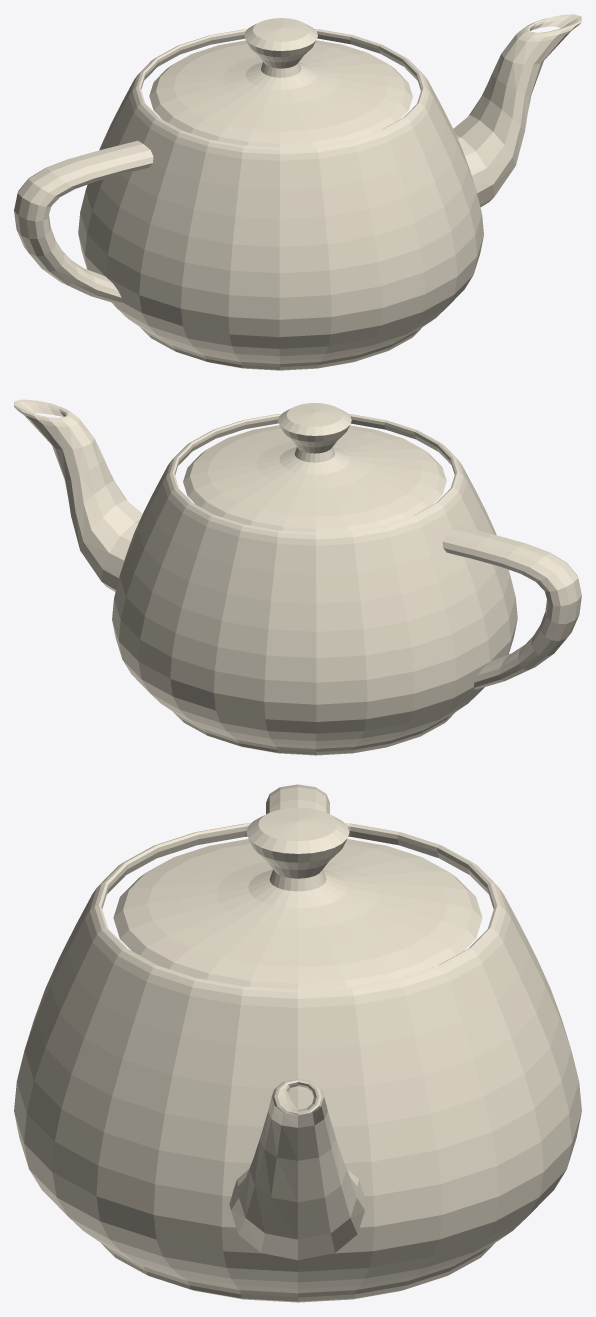
The model's file is case6.glb.
The picture shows the model from 3 angles, top to bottom: view 1: azimuth 30°, elevation 25°; view 2: azimuth 150°, elevation 25°; view 3: azimuth 270°, elevation 25°; orthographic projection. The views are drawn at different scales.
Parts seen in each view (by area): view 1: teapot; view 2: teapot; view 3: teapot.
Boxes of the visible parts, left/top/right/bottom form: teapot: left=14, top=14, right=581, bottom=370; teapot: left=14, top=399, right=581, bottom=755; teapot: left=14, top=784, right=581, bottom=1302.
Bounding box in the file's own units: 0.00643 × 0.00315 × 0.004.
